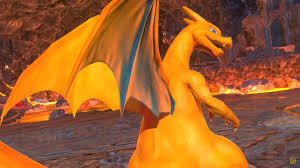charizard: (1, 1, 249, 166)
